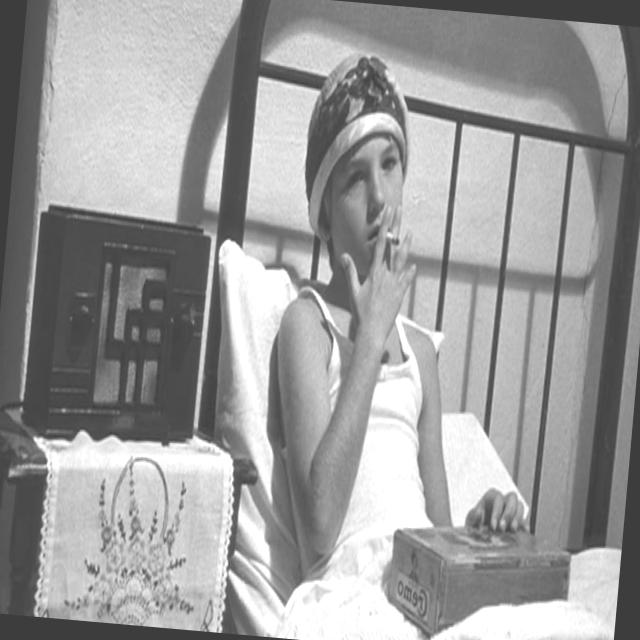cigarette: (384, 226, 399, 258)
